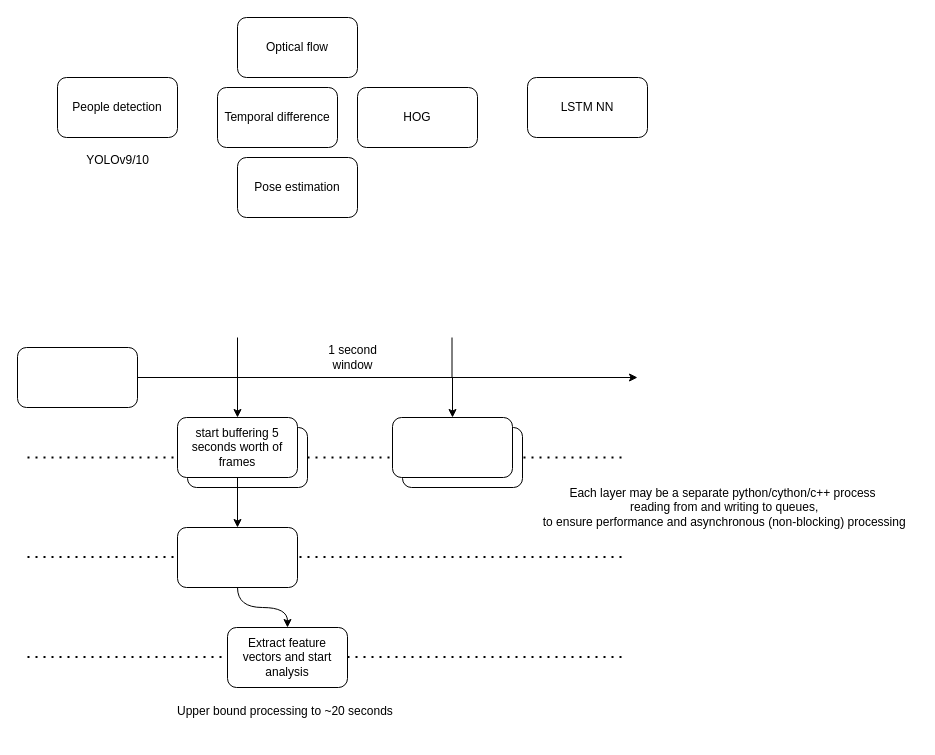
This 935x755 diagram has some shape labels left out. Each missing label, with the box of its shape:
read video data from network conn: (16, 346, 138, 408)
Run feature extraction in parallel to buffering: (176, 526, 298, 588)
start buffering: (392, 416, 512, 478)
